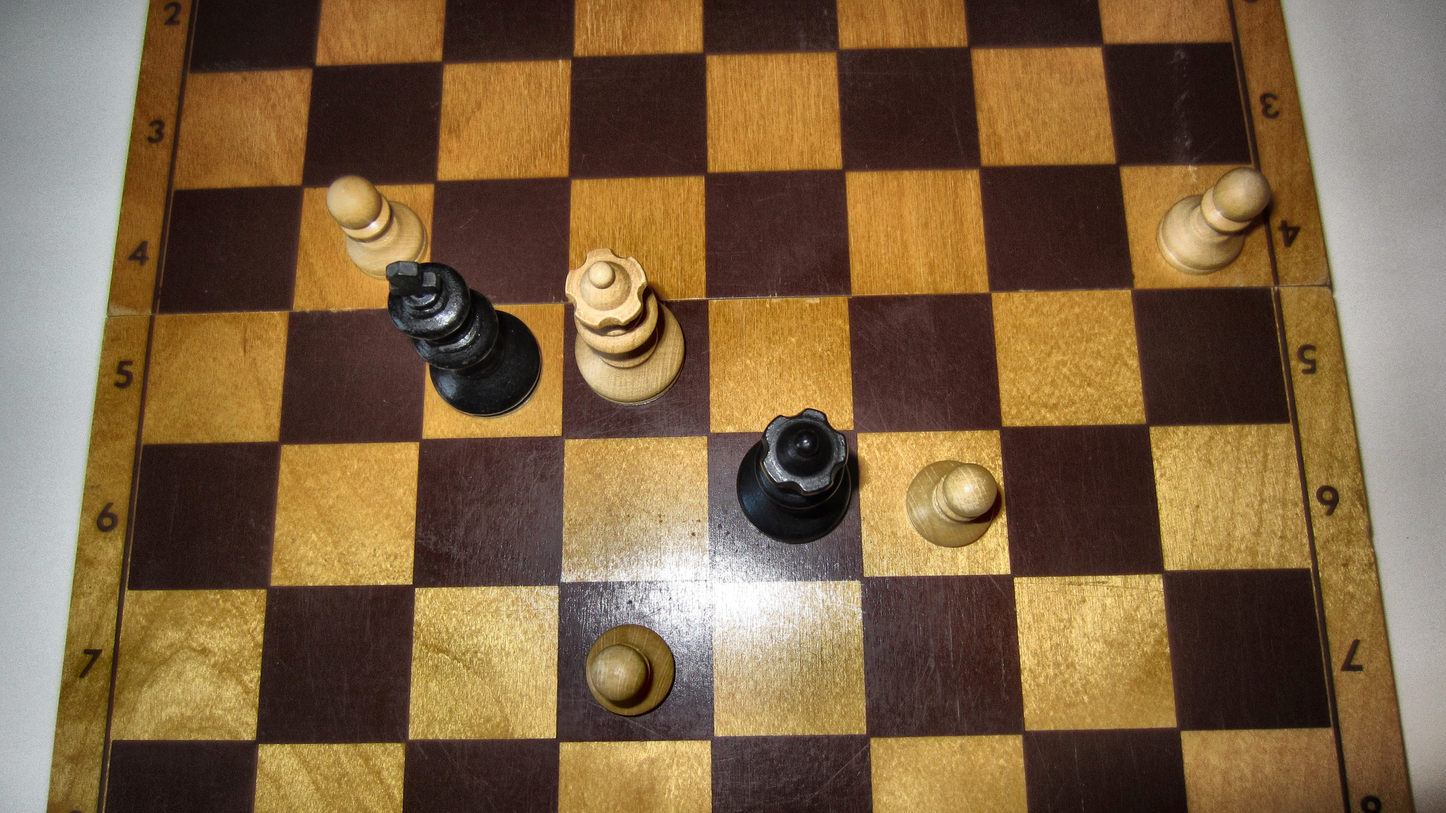black-king: (385, 260, 545, 419)
black-queen: (733, 406, 855, 546)
white-pawn: (1157, 166, 1272, 277), (325, 174, 428, 279), (903, 459, 1001, 548), (586, 623, 676, 718)
white-queen: (562, 245, 686, 407)
